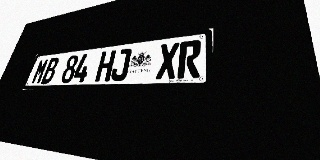4: (72, 53, 93, 83)
8: (60, 54, 80, 83)
B: (40, 57, 60, 84)
H: (94, 50, 116, 82)
J: (110, 48, 132, 81)
M: (30, 58, 50, 84)
R: (177, 39, 201, 79)
X: (156, 42, 180, 79)
